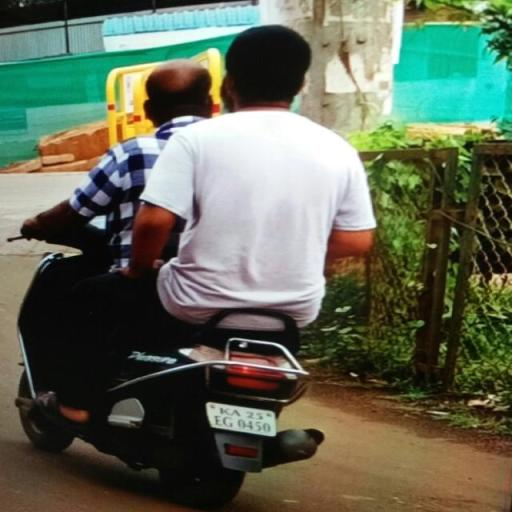bike: (8, 23, 384, 507)
numberplate: (206, 400, 284, 442)
withouthelmet: (230, 30, 304, 108), (148, 64, 210, 120)
